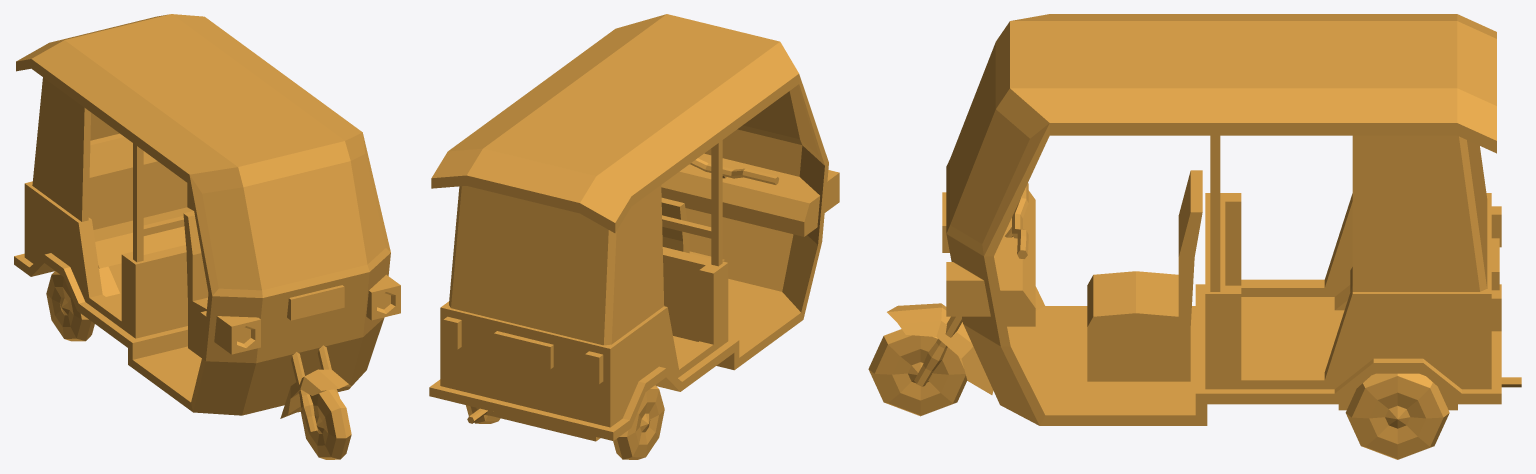
File: vehicles-rickshaw.glb
3 renders of one model, left to right at view 1: azimuth 30°, elevation 25°; view 2: azimuth 150°, elevation 25°; view 3: azimuth 270°, elevation 25°, orthographic. The views are drawn at different scales.
Parts seen in each view (by area): view 1: rickshaw-base, rickshaw-wheel_F, rickshaw-wheel_B; view 2: rickshaw-base, rickshaw-wheel_B; view 3: rickshaw-base, rickshaw-wheel_B, rickshaw-wheel_F.
Boxes of the visible parts, left/top/right/bottom form: rickshaw-base: left=14, top=14, right=400, bottom=432; rickshaw-wheel_F: left=301, top=389, right=351, bottom=459; rickshaw-wheel_B: left=46, top=271, right=94, bottom=341; rickshaw-base: left=429, top=14, right=839, bottom=441; rickshaw-wheel_B: left=466, top=385, right=664, bottom=459; rickshaw-base: left=887, top=14, right=1521, bottom=425; rickshaw-wheel_B: left=1345, top=373, right=1449, bottom=459; rickshaw-wheel_F: left=868, top=329, right=967, bottom=416.
Bounding box in the file's own units: 1.34 × 2.01 × 3.28.
